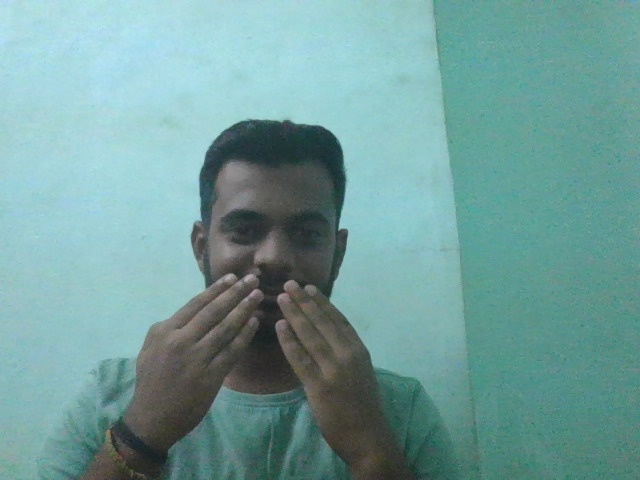thankyou: (116, 252, 416, 425)
